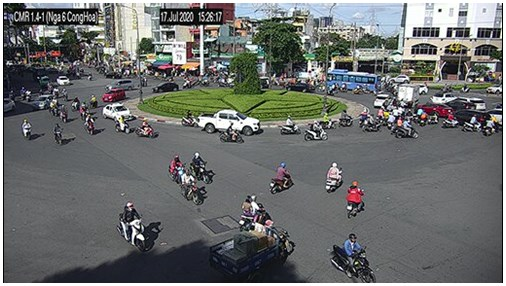xe_ban_tai: (197, 110, 262, 137)
xe_buyt: (327, 69, 378, 92)
xe_hoi: (455, 109, 491, 128), (102, 103, 130, 122), (455, 96, 486, 111), (418, 102, 451, 116), (101, 89, 126, 104), (32, 94, 51, 111), (104, 80, 133, 91), (446, 101, 475, 112), (285, 83, 315, 92), (152, 83, 178, 92), (429, 93, 454, 102), (486, 108, 502, 121), (373, 94, 389, 106), (486, 84, 501, 96), (389, 73, 409, 82), (3, 98, 14, 112), (57, 75, 69, 86), (40, 77, 50, 85)
xe_may: (331, 231, 379, 283), (118, 202, 146, 252), (242, 194, 274, 231), (180, 168, 201, 205), (271, 161, 294, 193), (346, 182, 365, 217), (192, 152, 210, 185), (304, 120, 328, 142), (221, 123, 243, 145), (396, 119, 419, 140), (325, 161, 341, 191), (278, 115, 301, 135), (169, 153, 185, 181), (461, 114, 481, 133), (136, 119, 153, 139), (363, 113, 380, 132), (114, 115, 130, 134), (393, 116, 412, 132), (482, 117, 497, 137), (318, 113, 335, 130), (52, 122, 64, 146), (181, 110, 197, 128), (443, 111, 458, 129), (339, 110, 354, 127), (21, 119, 32, 141), (83, 113, 93, 136), (360, 108, 371, 126), (420, 111, 431, 126), (51, 98, 60, 116), (428, 112, 439, 125), (459, 83, 472, 94), (71, 96, 79, 112), (59, 104, 66, 120), (338, 82, 349, 92), (386, 114, 393, 129), (52, 86, 60, 99), (351, 86, 364, 94), (142, 75, 150, 88), (326, 85, 336, 95), (91, 93, 97, 109), (79, 107, 86, 120), (20, 86, 26, 101), (182, 78, 190, 89), (25, 90, 31, 104), (61, 87, 67, 100), (87, 72, 92, 82), (81, 100, 86, 108)
